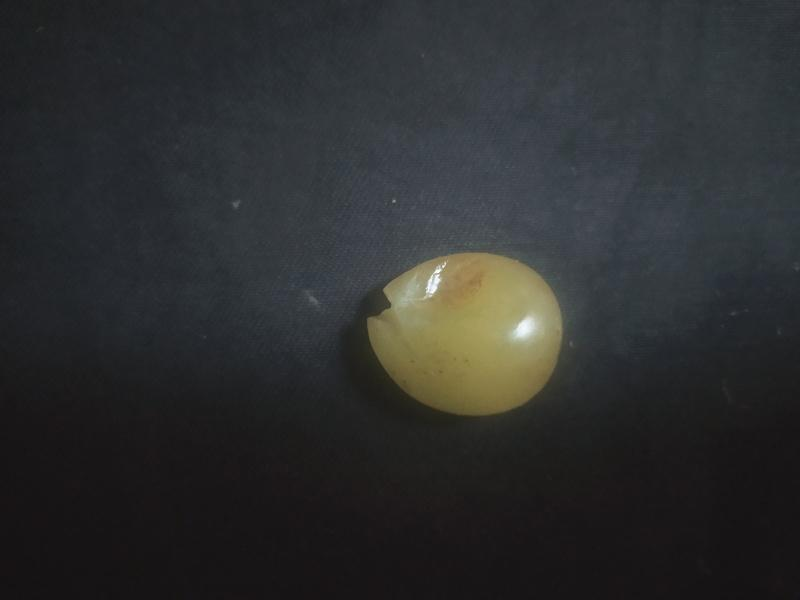Grape Overripe: (364, 247, 567, 420)
